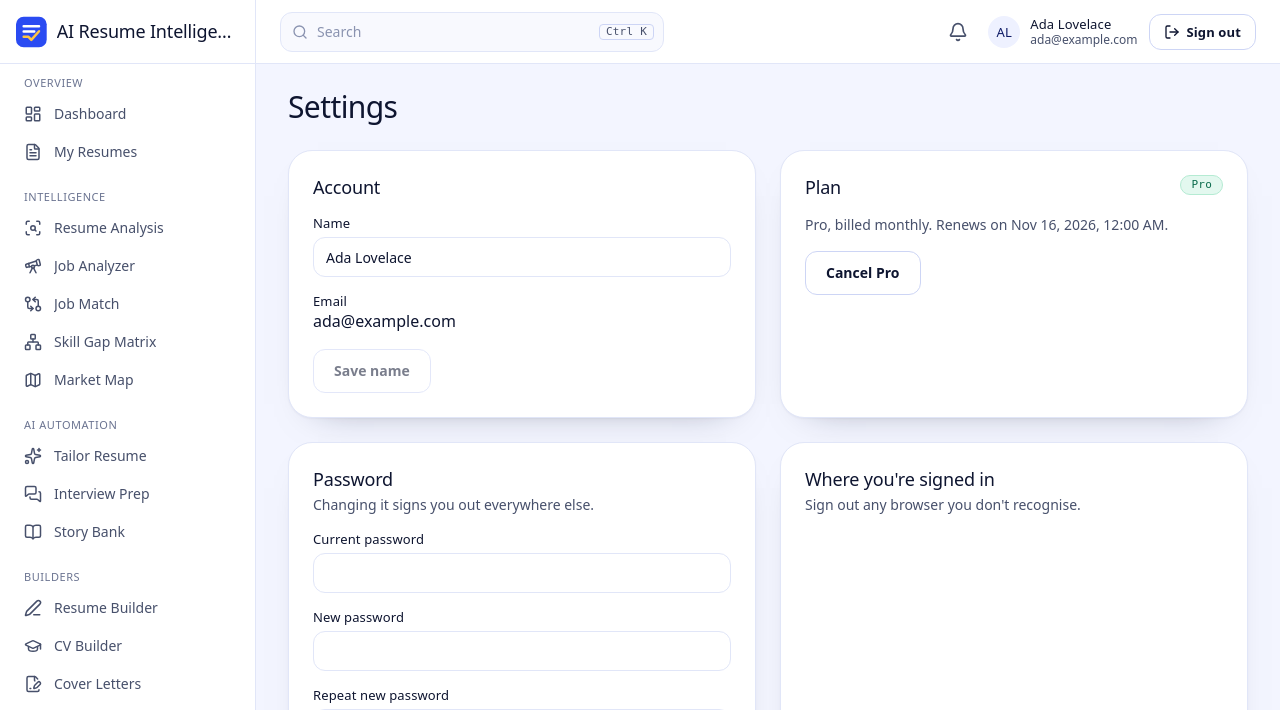
Test: Pro billing › shows the plan in Settings and cancels at the end of the period
The image size is (1280, 710).
Expected: the text "Pro, billed monthly. Renews on Nov 16, 2026, 12:00 AM." is shown, [805,215,1223,235]
Click the button "Cancel Pro" at {"x": 863, "y": 273}, box [805,251,920,295]
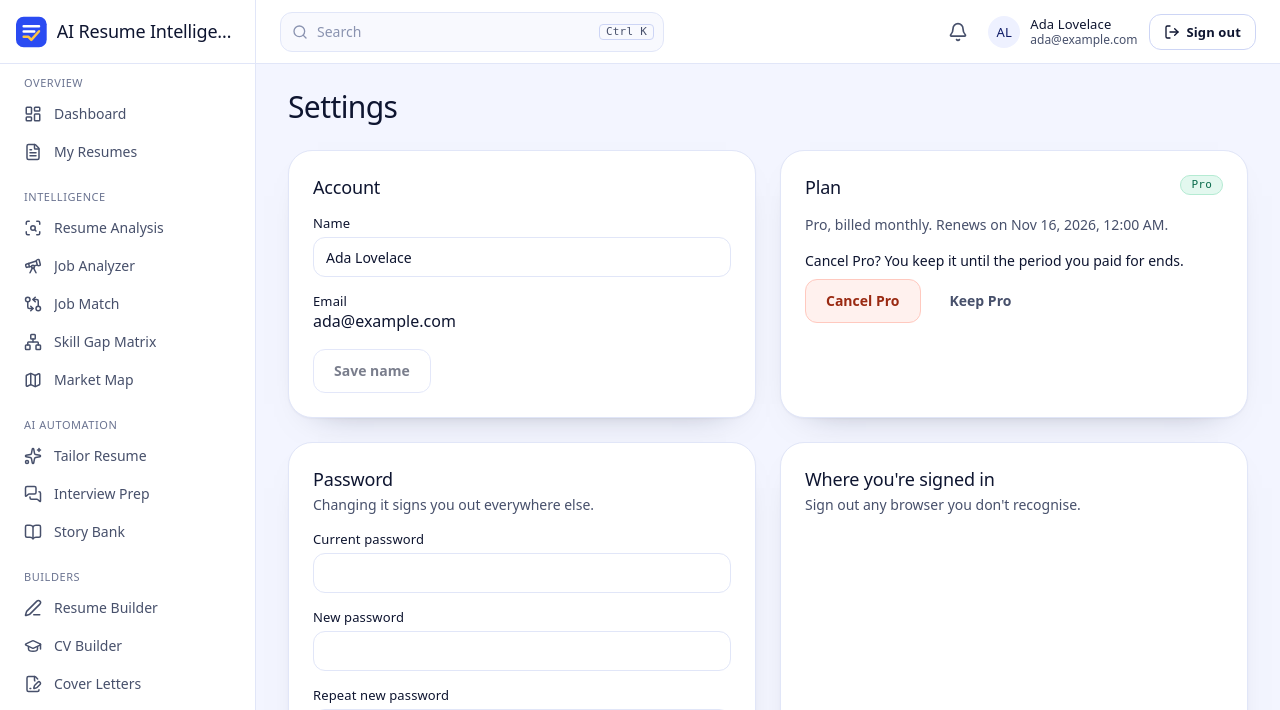
Click the button "Cancel Pro" at {"x": 863, "y": 301}, box [805,279,920,323]
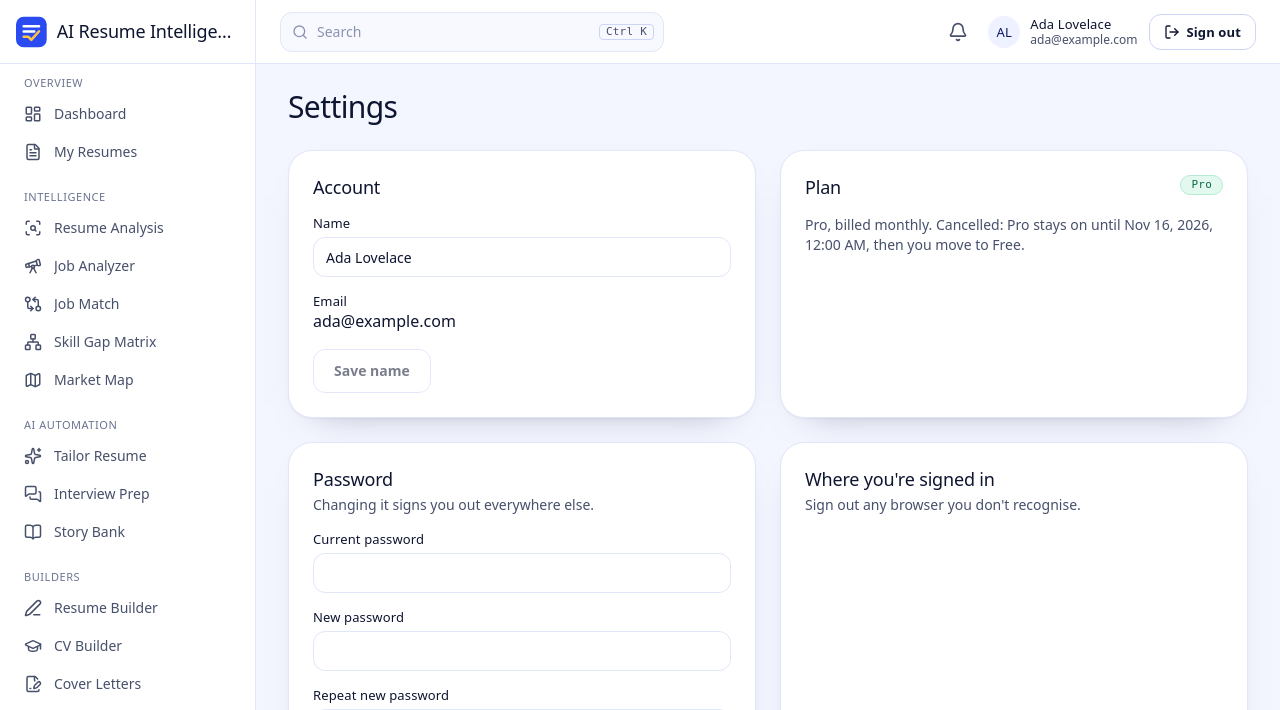
Now the text "Cancelled: Pro stays on until" is shown, box [805,215,1213,254]
